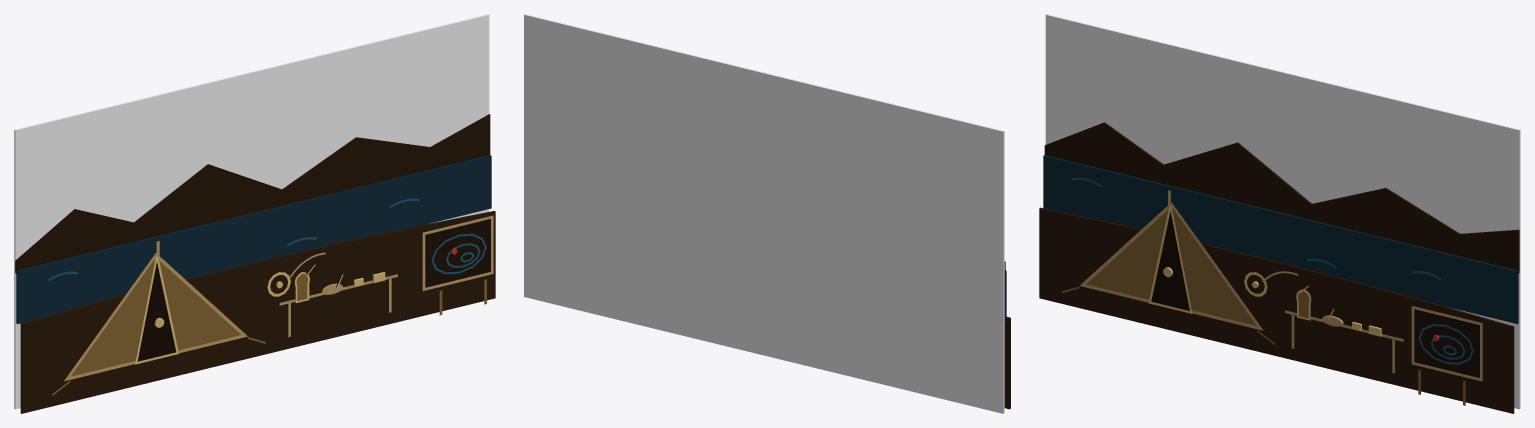
File: loc-shtab-arkheologii.glb
The picture shows the model from 3 angles, left to right: view 1: azimuth 30°, elevation 25°; view 2: azimuth 150°, elevation 25°; view 3: azimuth 330°, elevation 25°; orthographic projection.
Visible parts, largest first — view 1: loc-shtab-arkheologii; view 2: loc-shtab-arkheologii; view 3: loc-shtab-arkheologii.
Boxes of the visible parts, x1,y1,x2,y2 form: loc-shtab-arkheologii: (14, 14, 495, 413); loc-shtab-arkheologii: (524, 14, 1010, 413); loc-shtab-arkheologii: (1039, 14, 1520, 413).
Bounding box in the file's own units: 5.33 × 3 × 0.581.
